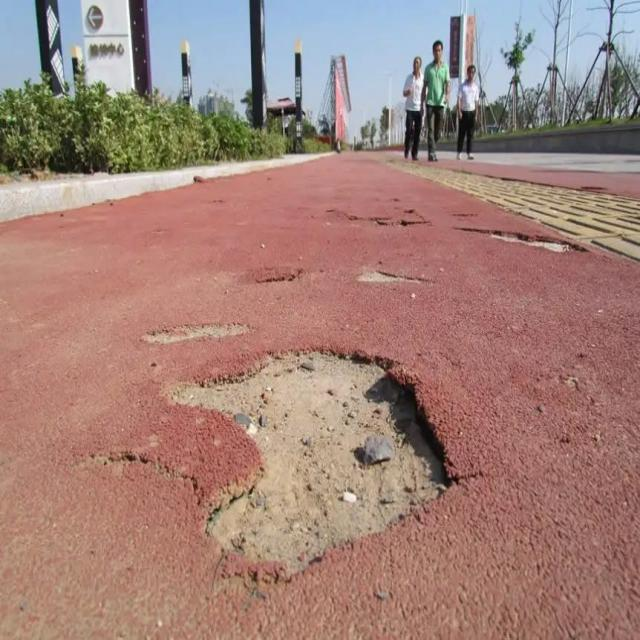Pothole: (161, 348, 456, 582), (456, 222, 592, 260), (140, 316, 256, 343), (338, 208, 431, 230), (350, 268, 434, 288)
